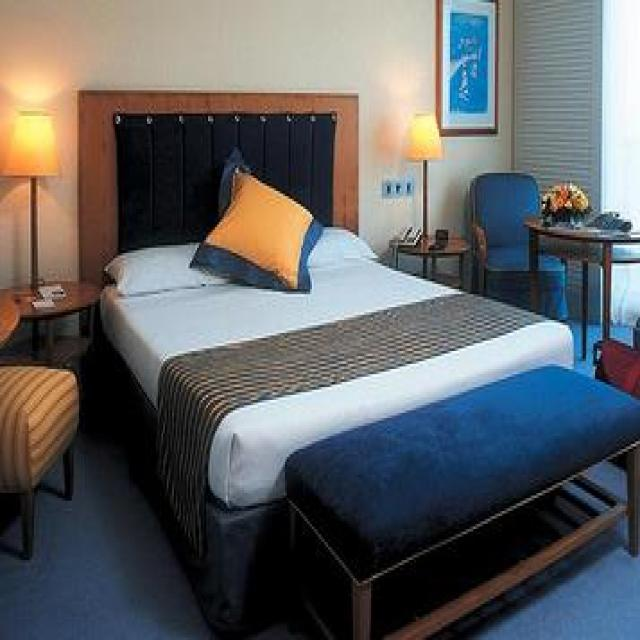bed: (75, 88, 574, 637)
chair: (468, 170, 568, 315)
table: (521, 211, 640, 358)
